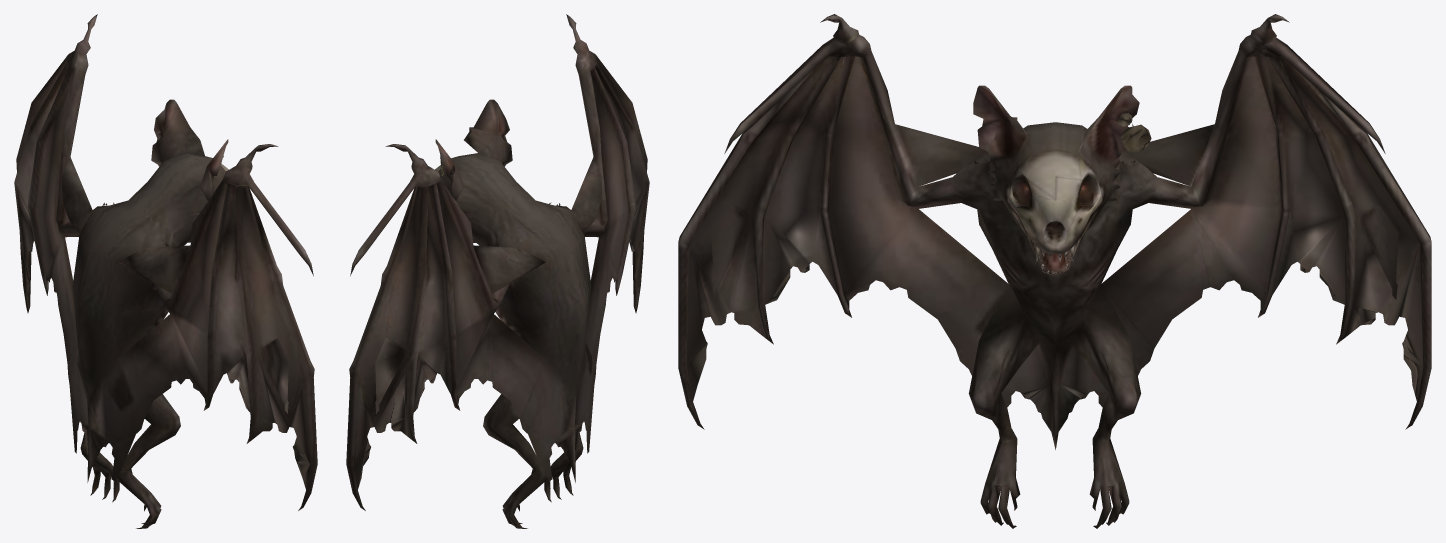
The model's file is tithe_bat.glb.
The picture shows the model from 3 angles, left to right: view 1: azimuth 30°, elevation 25°; view 2: azimuth 150°, elevation 25°; view 3: azimuth 270°, elevation 25°; orthographic projection. The views are drawn at different scales.
Parts seen in each view (by area): view 1: tripo_node_a928177a-e426-442e-b663-06093b171721; view 2: tripo_node_a928177a-e426-442e-b663-06093b171721; view 3: tripo_node_a928177a-e426-442e-b663-06093b171721.
Boxes of the visible parts, x1,y1,x2,y2 form: tripo_node_a928177a-e426-442e-b663-06093b171721: (14, 14, 317, 528); tripo_node_a928177a-e426-442e-b663-06093b171721: (346, 14, 649, 528); tripo_node_a928177a-e426-442e-b663-06093b171721: (678, 14, 1431, 528).
Bounding box in the file's own units: 0.3379 × 0.7949 × 0.998.
Materials: 1 (1 with a texture image).
